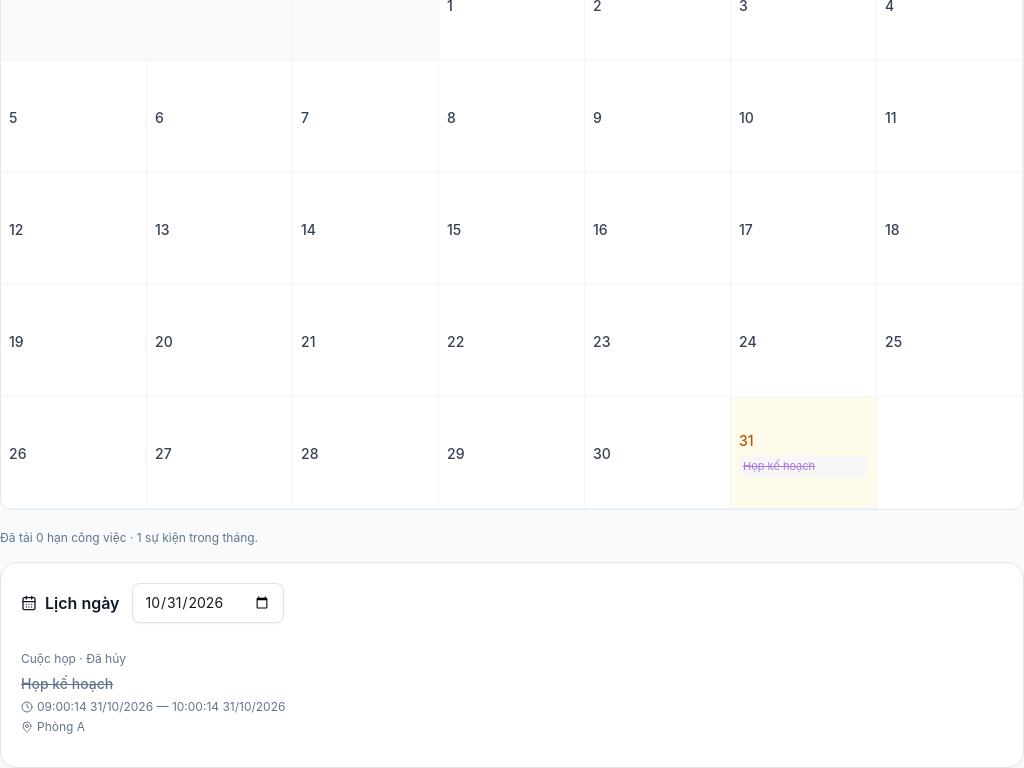
Calendar UI › keeps cancelled events and viewers read-only
(page scrolled)
Click the button "Họp kế hoạch".
click(67, 684)  # box [21,674,113,694]
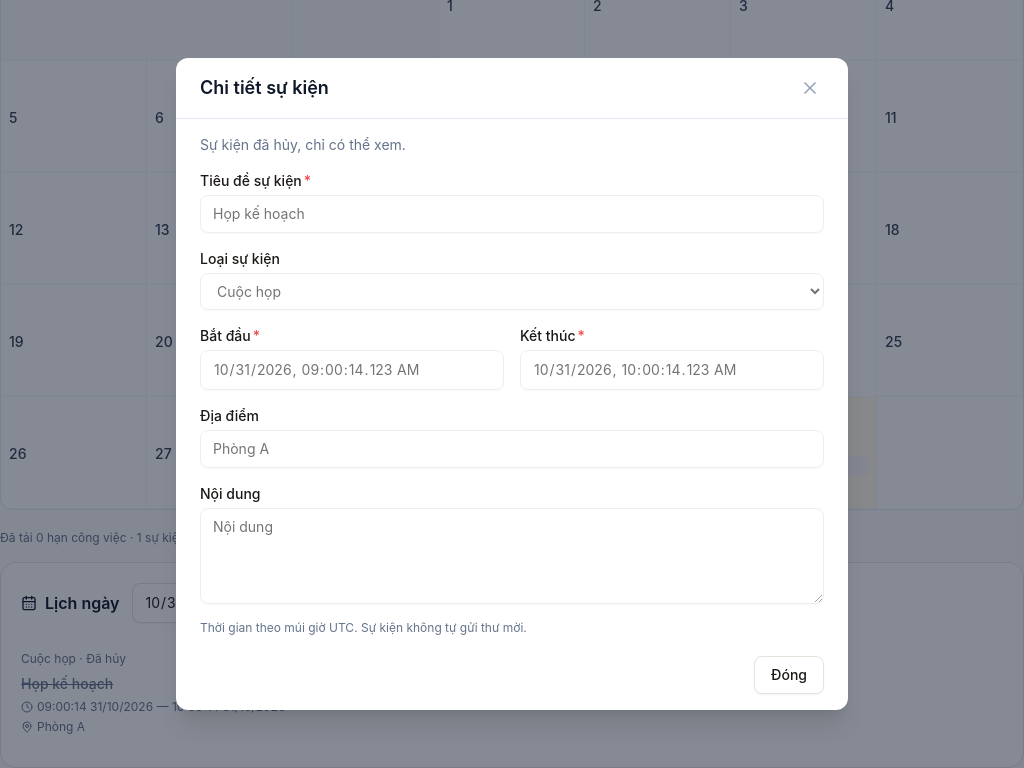
Expected: the field labelled "Tiêu đề sự kiện*" is disabled, [200,195,824,233]
